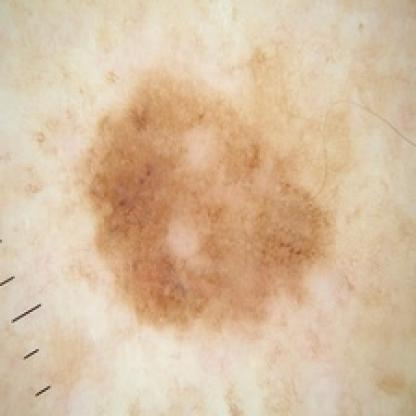malignant: (84, 70, 349, 332)
